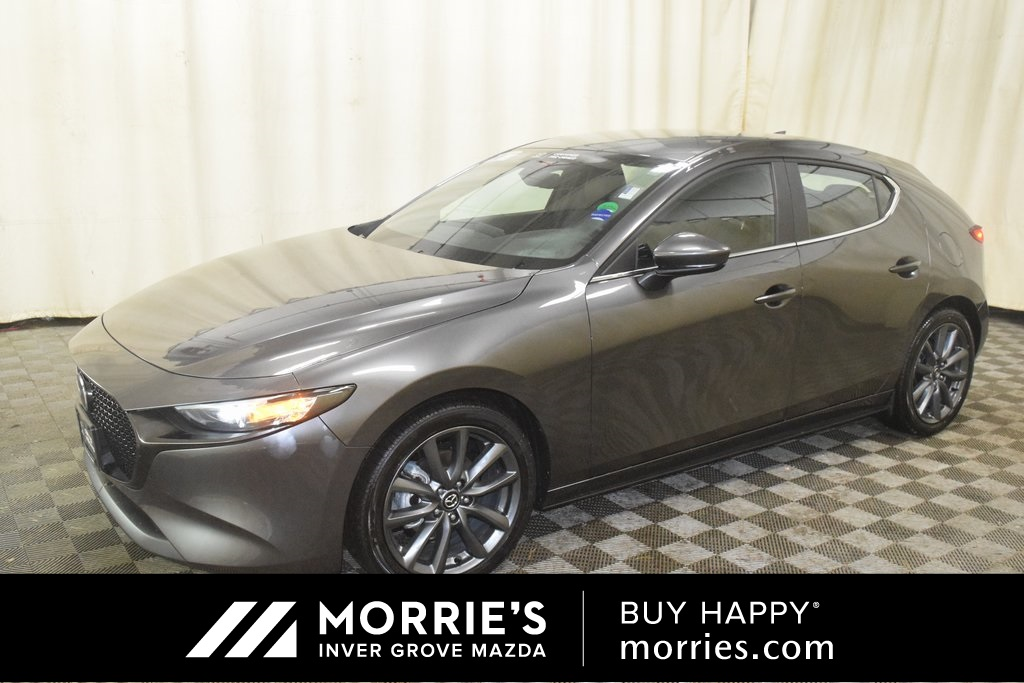Mazda3 Hatchback: (58, 127, 994, 573)
